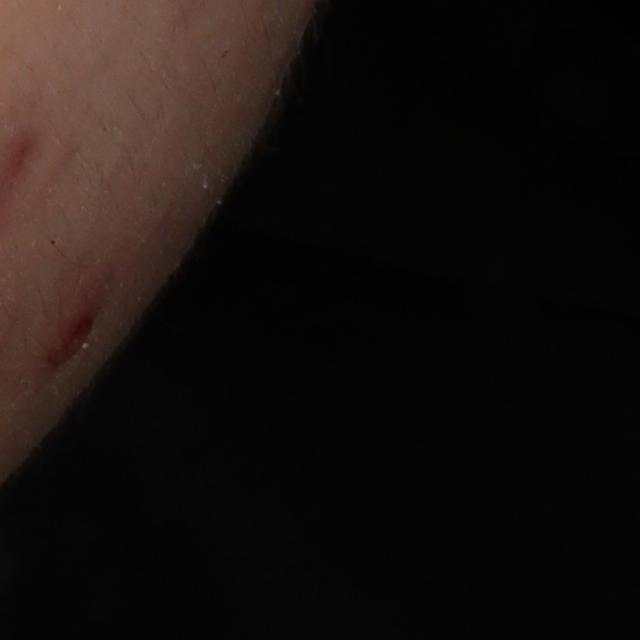papule: (27, 278, 108, 391)
